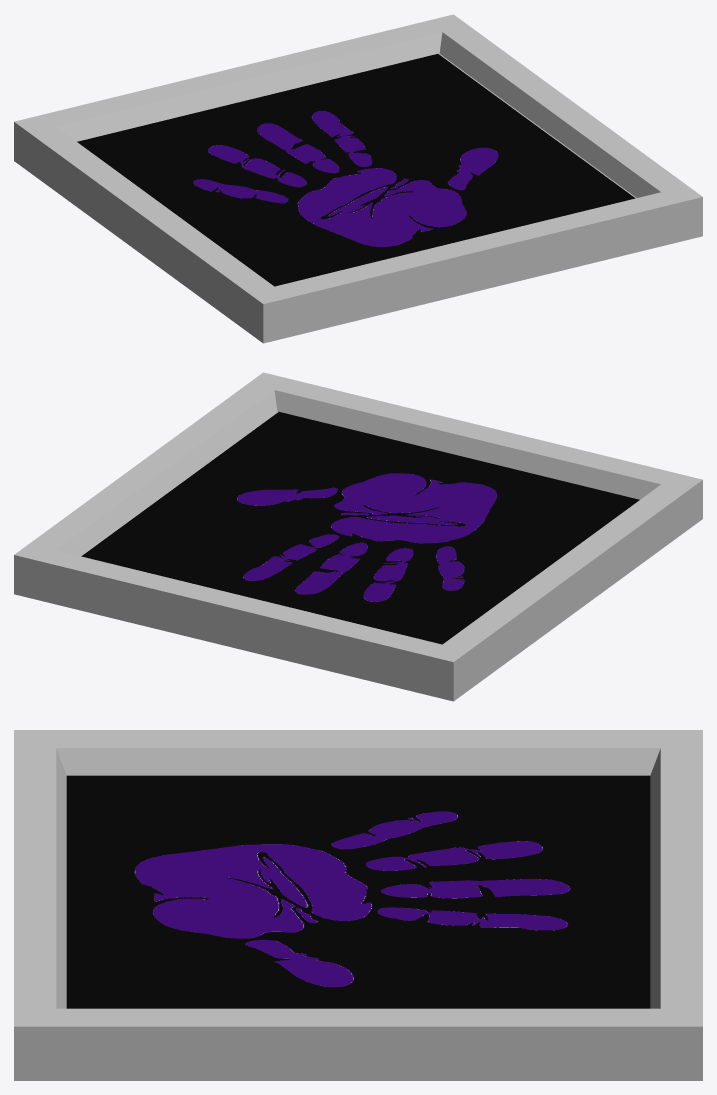
File: purpleHandScanner.fbx
3 renders of one model, top to bottom at view 1: azimuth 30°, elevation 25°; view 2: azimuth 150°, elevation 25°; view 3: azimuth 270°, elevation 25°, orthographic. The views are drawn at different scales.
Visible parts, largest first — view 1: Plane.001; view 2: Plane.001; view 3: Plane.001.
Part boxes in pixels (x1,y1,x2,y2): Plane.001: (14, 14, 702, 343); Plane.001: (14, 372, 702, 701); Plane.001: (14, 730, 702, 1080).
Size of the model in its own units: 233 by 19.96 by 229.
